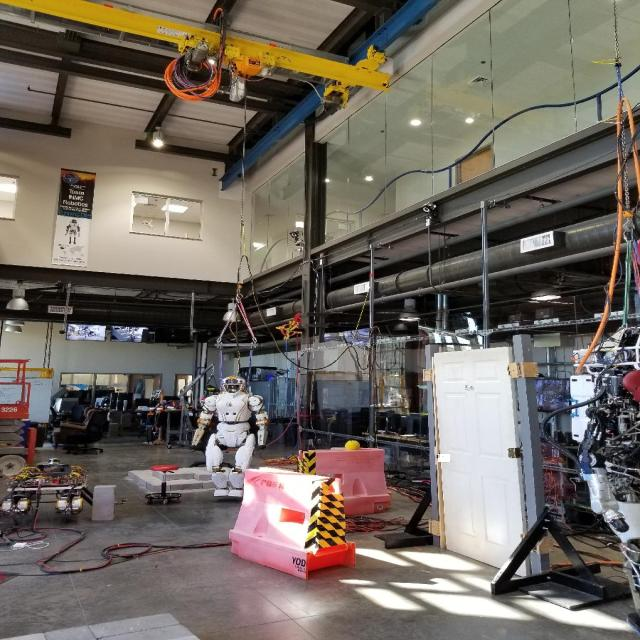doorhandle: (438, 454, 450, 462)
